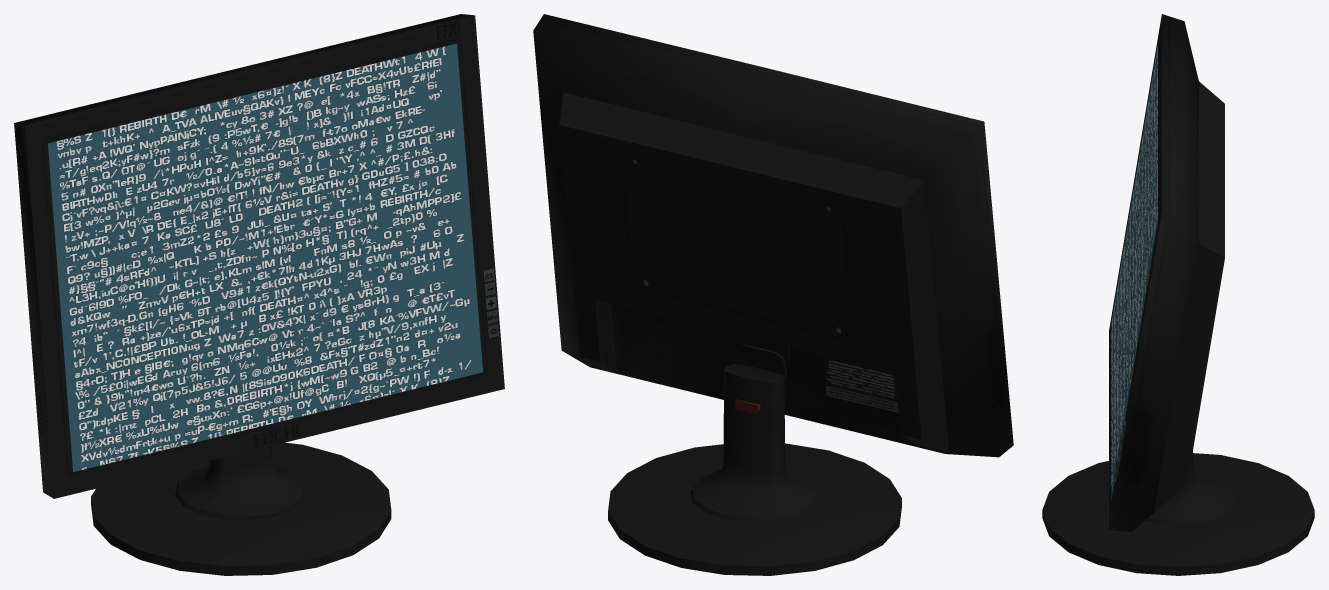
File: monitor_terminal_gibberish.dae
3 views of the same model, side by side, from view 1: azimuth 30°, elevation 25°; view 2: azimuth 150°, elevation 25°; view 3: azimuth 270°, elevation 25° (orthographic). The views are drawn at different scales.
Parts seen in each view (by area): view 1: monitor_screen, polySurface186; view 2: polySurface186; view 3: polySurface186, monitor_screen.
Boxes of the visible parts, bbox=[...] form: monitor_screen: bbox=[48, 43, 482, 472]; polySurface186: bbox=[14, 14, 504, 575]; polySurface186: bbox=[533, 14, 1013, 575]; polySurface186: bbox=[1042, 14, 1314, 575]; monitor_screen: bbox=[1111, 43, 1157, 500].
Size of the model in its own units: 0.7193 by 0.685 by 0.4164.
